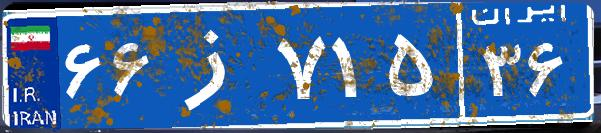1: (330, 28, 385, 110)
3: (475, 38, 525, 113)
5: (385, 28, 445, 110)
6: (57, 26, 110, 107), (110, 28, 158, 105), (525, 38, 570, 115)
7: (273, 28, 330, 110)
ز: (158, 15, 273, 115)
